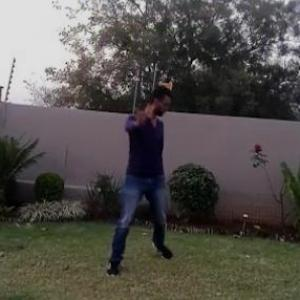takeoff-hand: (123, 98, 149, 132)
